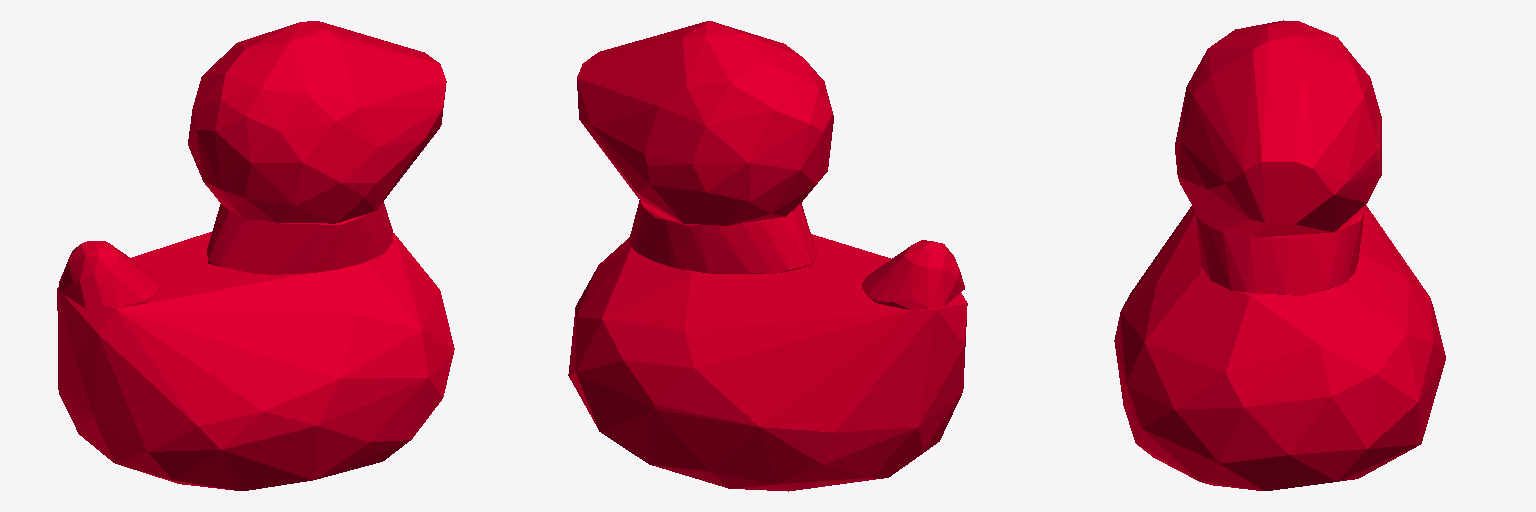
The robot description file, URDF, robot "rubber_duck":
<robot name="rubber_duck">
	<link name="_name">
		<visual>
			<origin xyz="0.008914588893410558 4.811566862307661e-07 0.01572867073500841" rpy="0 0 0" />
			<geometry>
				<mesh filename="rubber_duck_vhacd.obj" scale="0.85 0.85 0.85" />
			</geometry>
			<material name="red">
        		<color rgba="0.9 0 0.2 1.0"/>
      		</material>
		</visual>
		<collision>
			<geometry>
				<mesh filename="rubber_duck_vhacd.obj" scale="0.85 0.85 0.85" />
			</geometry>
		<origin xyz="0.008914588893410558 4.811566862307661e-07 0.01572867073500841" rpy="0 0 0" /></collision>
		<inertial>
			<mass value="1.0" />
			<inertia ixx="1.0" ixy="0.0" ixz="0.0" iyy="1.0" iyz="0.0" izz="1.0" />
		</inertial>
	</link>
</robot>

--- Render facts (derived) ---
3 views of the same robot in one strip: view 1: azimuth 30°, elevation 25°; view 2: azimuth 150°, elevation 25°; view 3: azimuth 270°, elevation 25° (orthographic).
Model rubber_duck with 1 links and 0 joints (none), rooted at _name, posed all joints at 0.
Visible links, largest first — view 1: _name; view 2: _name; view 3: _name.
Boxes of the visible links, left/top/right/bottom form: _name: left=57, top=21, right=454, bottom=490; _name: left=568, top=21, right=967, bottom=491; _name: left=1114, top=20, right=1445, bottom=490.
Bounding box of the posed robot: 0.0758 × 0.0559 × 0.0798 m (x, y, z).
Meshes: 1 distinct files referenced, 1 mesh visuals loaded (1 OBJ).
